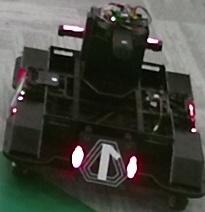armor_1: (73, 145, 137, 179)
